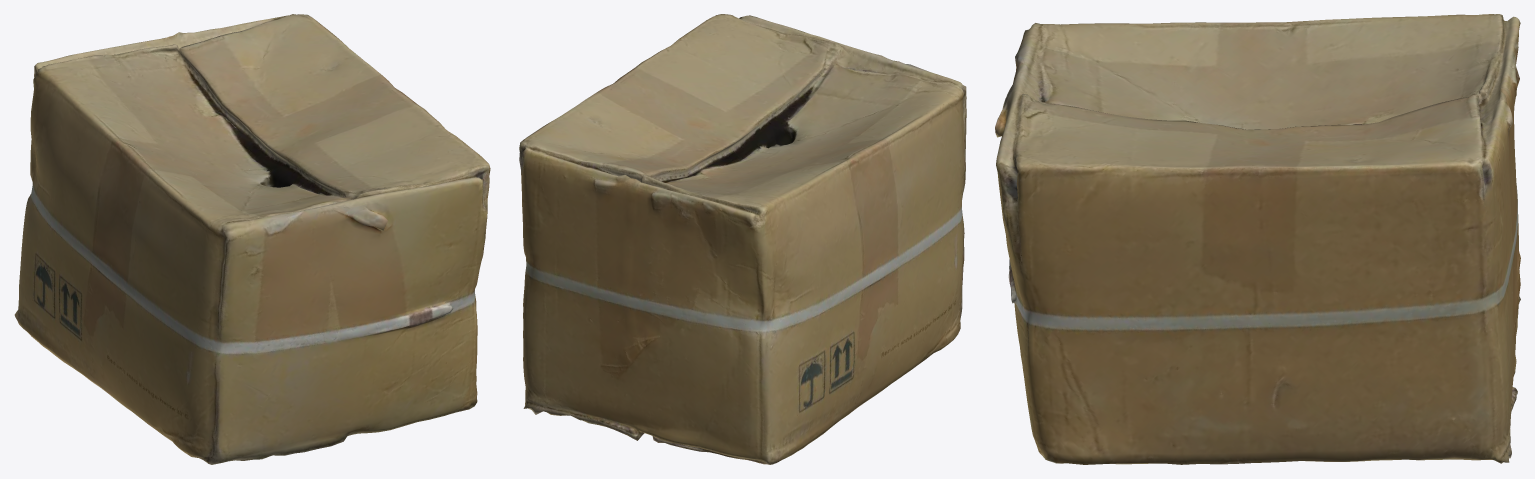
The model's file is ProductBoxOptimized.glb.
The picture shows the model from 3 angles, left to right: view 1: azimuth 30°, elevation 25°; view 2: azimuth 150°, elevation 25°; view 3: azimuth 270°, elevation 25°; orthographic projection. The views are drawn at different scales.
Visible parts, largest first — view 1: cardboard_box_01; view 2: cardboard_box_01; view 3: cardboard_box_01.
Part boxes in pixels (<box>): cardboard_box_01: <box>14,14,490,464</box>; cardboard_box_01: <box>519,14,966,464</box>; cardboard_box_01: <box>995,14,1520,464</box>.
Bounding box in the file's own units: 0.387 × 0.3418 × 0.5159.
Materials: 1 (1 with a texture image).
